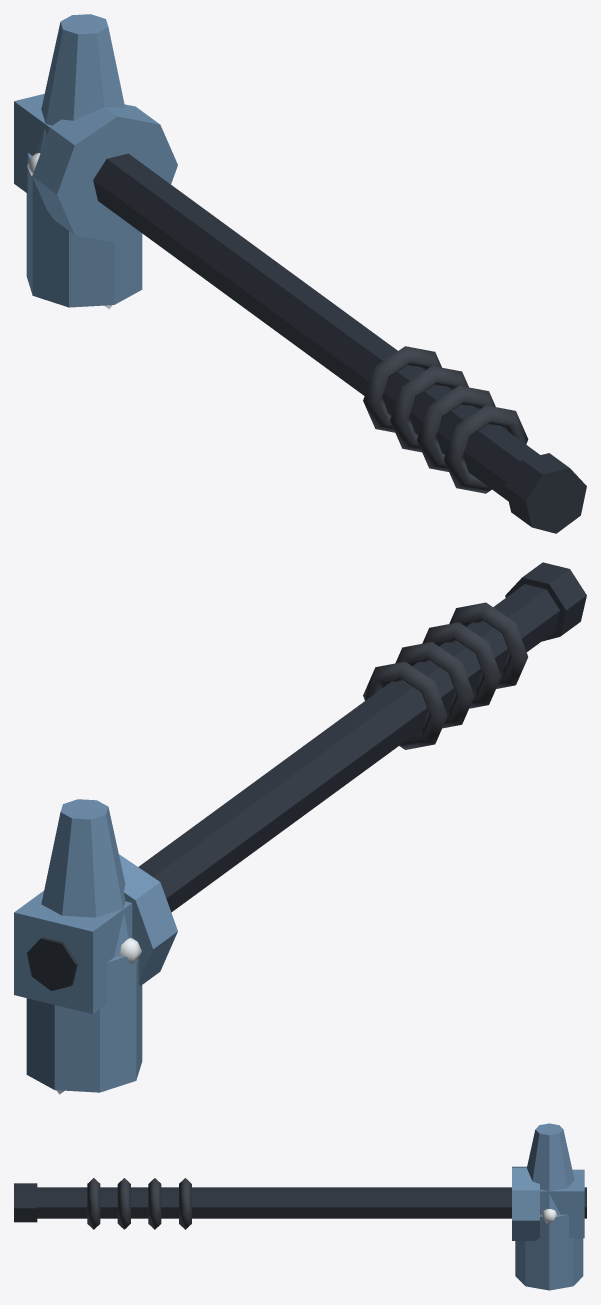
Rendered from Tool_Hammer_Titanium.fbx.
3 renders of one model, top to bottom at view 1: azimuth 30°, elevation 25°; view 2: azimuth 150°, elevation 25°; view 3: azimuth 270°, elevation 25°, orthographic. The views are drawn at different scales.
Visible parts, largest first — view 1: Tool_Hammer_Titanium; view 2: Tool_Hammer_Titanium; view 3: Tool_Hammer_Titanium.
Boxes of the visible parts, left/top/right/bottom form: Tool_Hammer_Titanium: left=14, top=14, right=586, bottom=533; Tool_Hammer_Titanium: left=14, top=562, right=586, bottom=1094; Tool_Hammer_Titanium: left=14, top=1123, right=586, bottom=1290.
Bounding box in the file's own units: 0.0338 × 0.0712 × 0.244.
